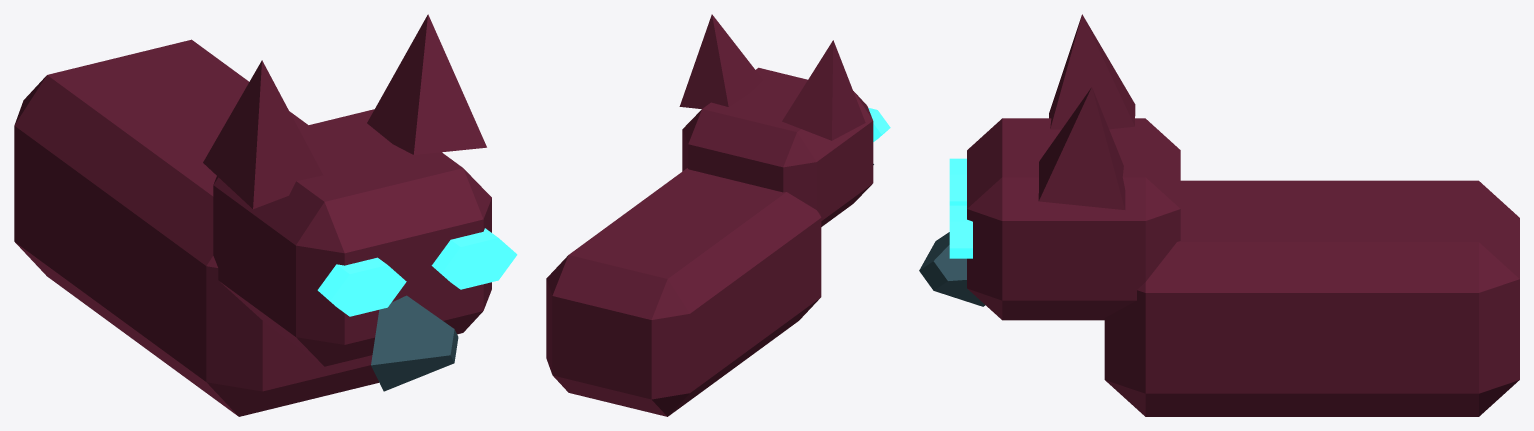
The model's file is cat_body.glb.
3 views of the same model, side by side, from view 1: azimuth 30°, elevation 25°; view 2: azimuth 150°, elevation 25°; view 3: azimuth 270°, elevation 25° (orthographic). The views are drawn at different scales.
Parts seen in each view (by area): view 1: Torso, Head, EarL, EarR, Muzzle, EyeL, EyeR; view 2: Torso, Head, EarL, EarR, EyeL; view 3: Torso, Head, EarR, EarL, Muzzle, EyeR, EyeL.
Boxes of the visible parts, box(x1,y1,x2,y2) form: Torso: box(14, 39, 379, 416); Head: box(213, 109, 491, 366); EarL: box(203, 60, 322, 209); EarR: box(367, 14, 486, 154); Muzzle: box(371, 295, 458, 391); EyeL: box(317, 257, 406, 316); EyeR: box(431, 228, 517, 289); Torso: box(546, 168, 821, 416); Head: box(682, 67, 873, 226); EarL: box(782, 40, 865, 140); EarR: box(679, 14, 762, 108); EyeL: box(868, 107, 890, 141); Torso: box(1104, 180, 1519, 416); Head: box(967, 118, 1180, 320); EarR: box(1038, 87, 1125, 209); EarL: box(1049, 14, 1135, 129); Muzzle: box(919, 232, 985, 306); EyeR: box(949, 205, 972, 258); EyeL: box(949, 158, 966, 205).
Bounding box in the file's own units: 0.392 × 0.6338 × 1.03.
